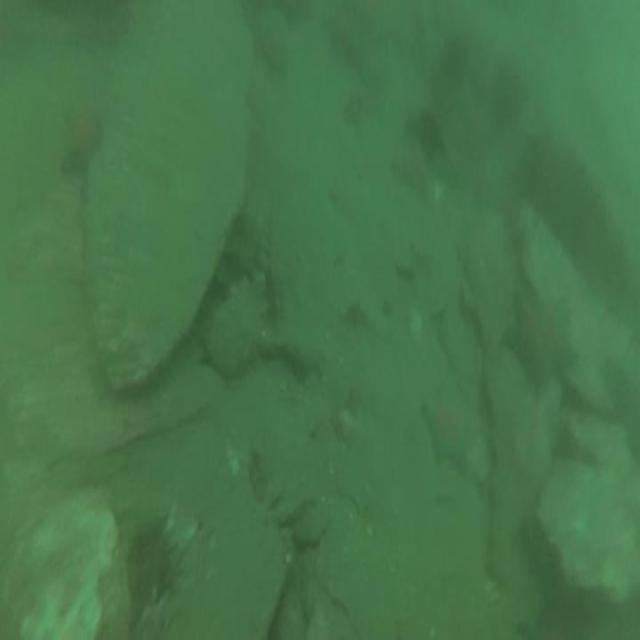echinus: (121, 517, 175, 610), (412, 99, 448, 166), (54, 144, 91, 182), (276, 0, 304, 25)
holothurian: (201, 266, 277, 382)
starfish: (503, 272, 581, 398), (420, 378, 478, 477)
